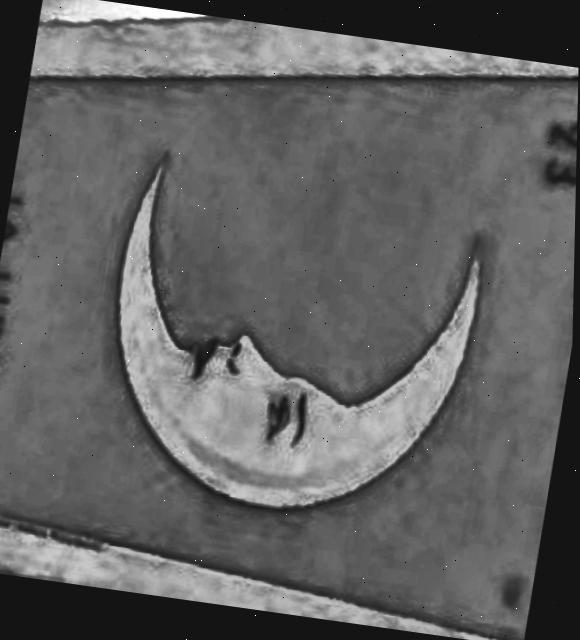La Luna: (0, 79, 579, 640)
